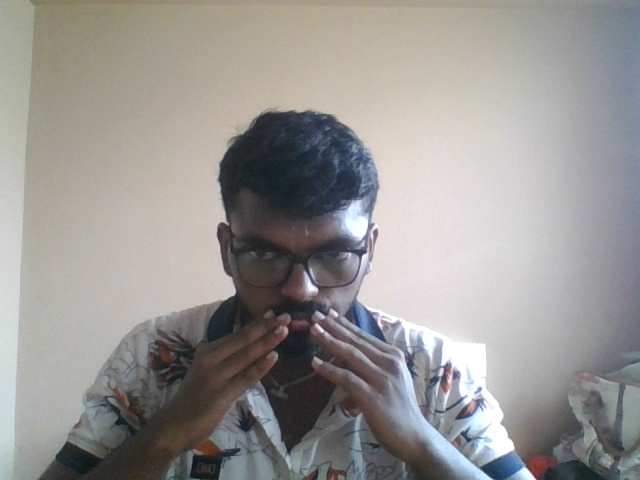Thank you: (155, 282, 426, 472)
